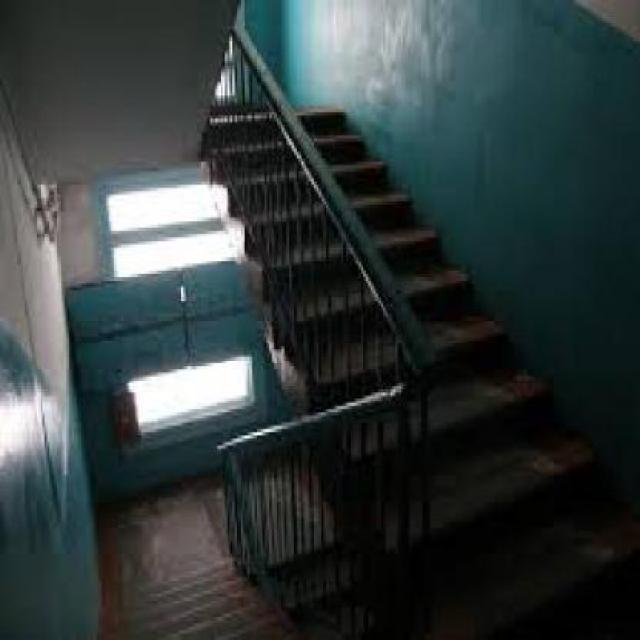stair: (235, 55, 638, 637), (72, 548, 320, 637)
